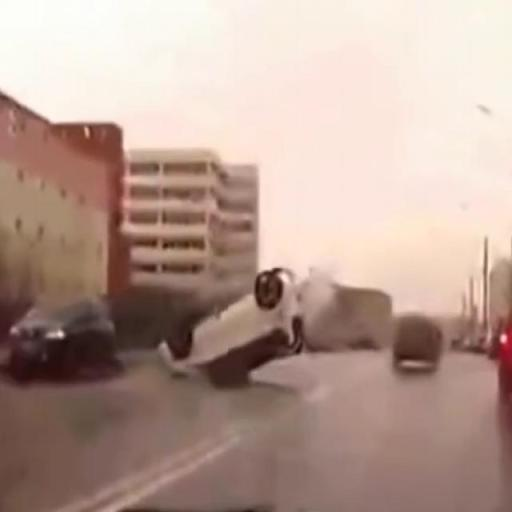小汽车: (160, 264, 310, 386), (5, 293, 119, 380), (392, 308, 444, 370)
